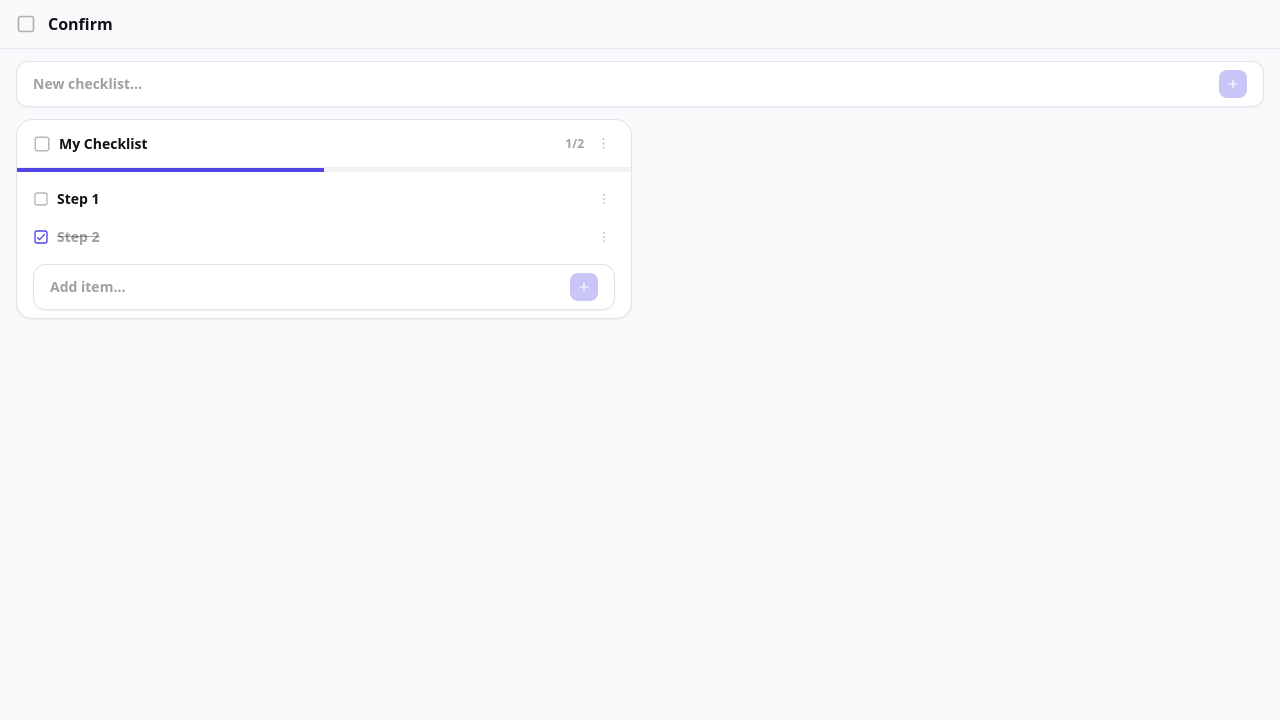
Confirm › 4d-9: bulk mode exit clears selection
Click the button named "Toggle bulk select".
click(42, 144)  # box [33, 134, 51, 152]
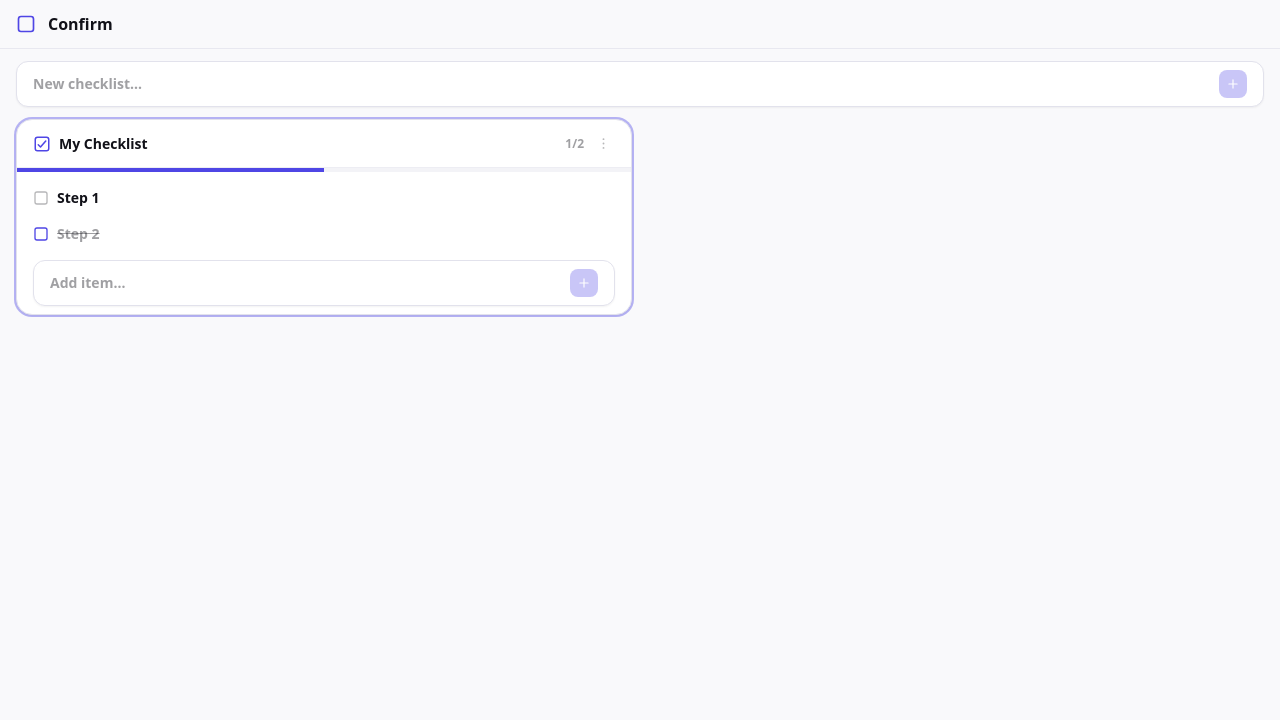
Click the element named "Item: Step 1".
click(66, 198)  # box [33, 188, 100, 207]
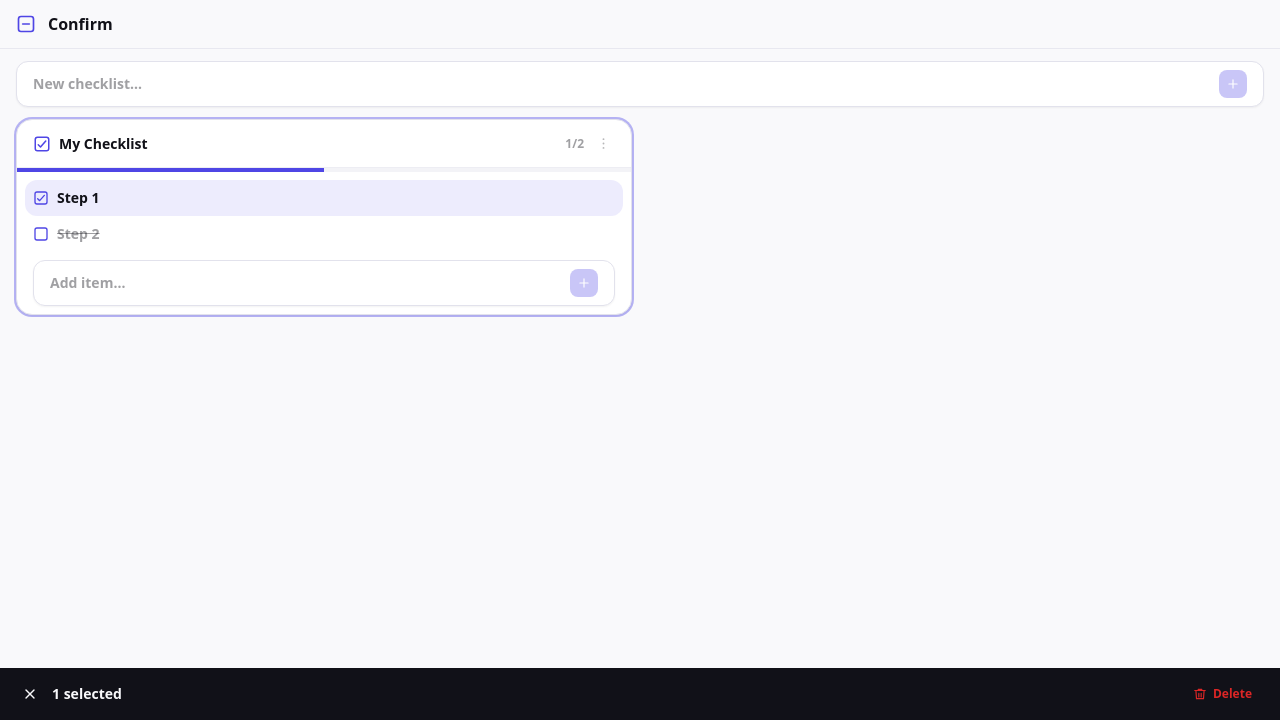
// Exit bulk mode via the X button
Click the button named "Clear selection".
click(30, 694)  # box [16, 680, 44, 708]
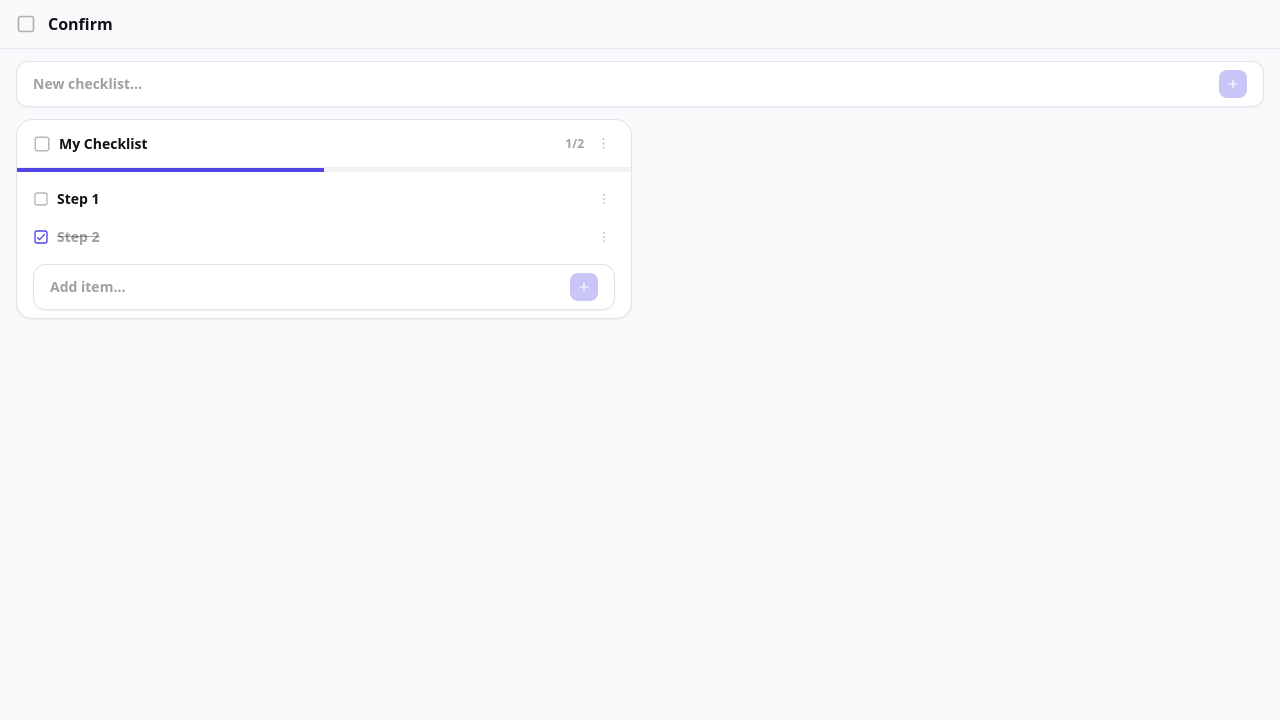
Check: the text "selected" is gone
